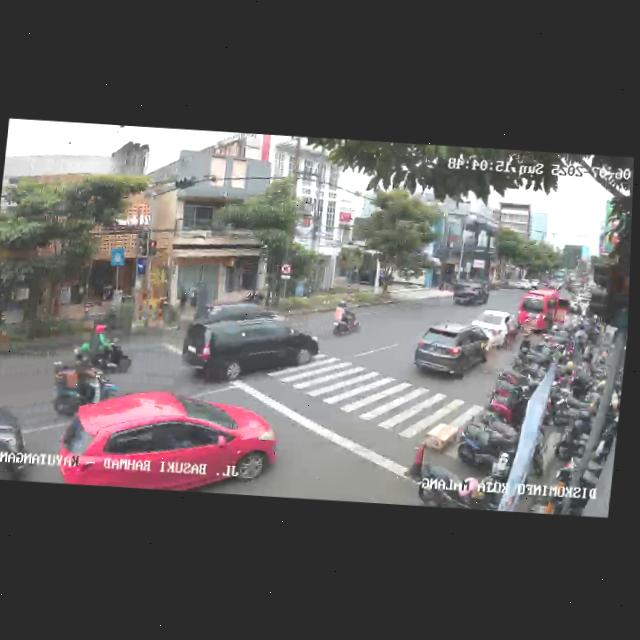car: (55, 384, 281, 497), (184, 310, 321, 390), (410, 322, 493, 385), (0, 397, 35, 481), (517, 286, 574, 335), (192, 302, 291, 329), (467, 306, 523, 348), (450, 279, 492, 308)
motorcycle: (48, 348, 118, 418), (70, 317, 135, 375), (330, 297, 362, 338)
